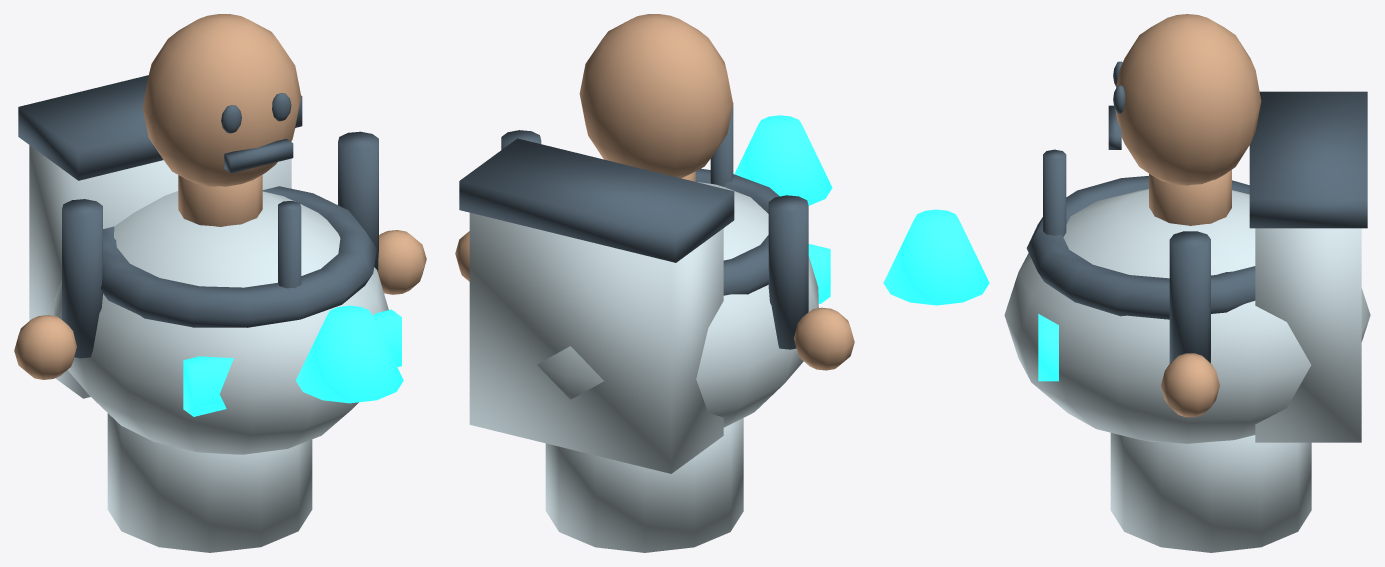
The model's file is porcelain-raider-assault-v001.glb.
3 renders of one model, left to right at view 1: azimuth 30°, elevation 25°; view 2: azimuth 150°, elevation 25°; view 3: azimuth 270°, elevation 25°, orthographic. The views are drawn at different scales.
Parts seen in each view (by area): view 1: bowl, pedestal, head, rim, tank, tank-lid, plunger-cup, arm-left, arm-right, neck, energy-band, hand-left (+3 smaller); view 2: tank, tank-lid, head, pedestal, bowl, arm-left, plunger-cup, rim, hand-left, plunger-shaft, energy-band, hand-right; view 3: bowl, pedestal, head, tank, tank-lid, rim, plunger-cup, arm-right, neck, hand-right, plunger-shaft, energy-band.
Part boxes in pixels (x1=…): bowl: x1=54, y1=191, x2=388, y2=454; pedestal: x1=107, y1=413, x2=312, y2=552; head: x1=142, y1=14, x2=301, y2=186; rim: x1=100, y1=186, x2=376, y2=327; tank: x1=29, y1=141, x2=291, y2=398; tank-lid: x1=18, y1=75, x2=302, y2=180; plunger-cup: x1=296, y1=305, x2=403, y2=403; arm-left: x1=62, y1=199, x2=102, y2=358; arm-right: x1=338, y1=131, x2=378, y2=271; neck: x1=178, y1=175, x2=262, y2=226; energy-band: x1=183, y1=309, x2=401, y2=416; hand-left: x1=14, y1=315, x2=76, y2=379; tank: x1=469, y1=212, x2=723, y2=473; tank-lid: x1=459, y1=138, x2=734, y2=262; head: x1=579, y1=14, x2=733, y2=178; pedestal: x1=545, y1=418, x2=743, y2=552; bowl: x1=537, y1=182, x2=818, y2=427; arm-left: x1=768, y1=195, x2=808, y2=349; plunger-cup: x1=734, y1=115, x2=832, y2=205; rim: x1=695, y1=168, x2=779, y2=295; hand-left: x1=794, y1=307, x2=854, y2=370; plunger-shaft: x1=710, y1=103, x2=733, y2=186; energy-band: x1=808, y1=244, x2=830, y2=303; hand-right: x1=455, y1=231, x2=469, y2=281; bowl: x1=1004, y1=189, x2=1370, y2=443; pedestal: x1=1110, y1=433, x2=1311, y2=552; head: x1=1115, y1=14, x2=1261, y2=185; tank: x1=1255, y1=228, x2=1361, y2=442; tank-lid: x1=1249, y1=91, x2=1367, y2=228; rim: x1=1026, y1=176, x2=1255, y2=319; plunger-cup: x1=883, y1=209, x2=989, y2=305; arm-right: x1=1169, y1=231, x2=1210, y2=363; neck: x1=1149, y1=170, x2=1231, y2=225; hand-right: x1=1161, y1=353, x2=1219, y2=417; plunger-shaft: x1=1043, y1=149, x2=1066, y2=236; energy-band: x1=1038, y1=314, x2=1058, y2=381.
Bounding box in the file's own units: 1.55 × 1.83 × 1.65.
